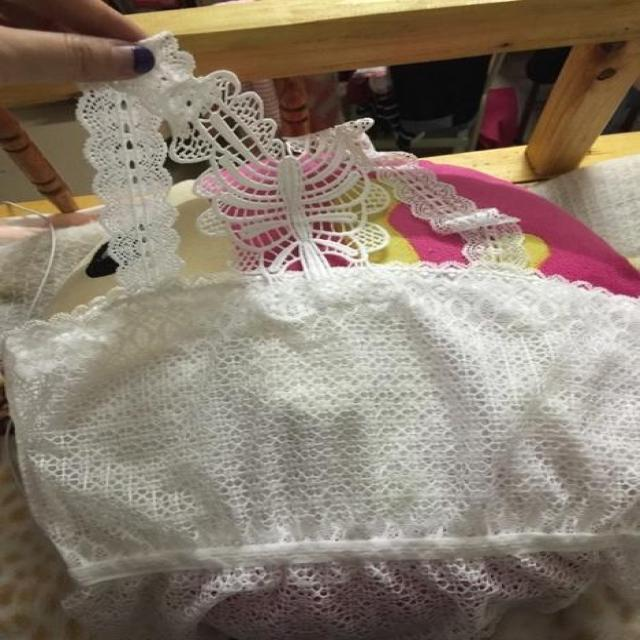sling: (1, 260, 638, 640)
